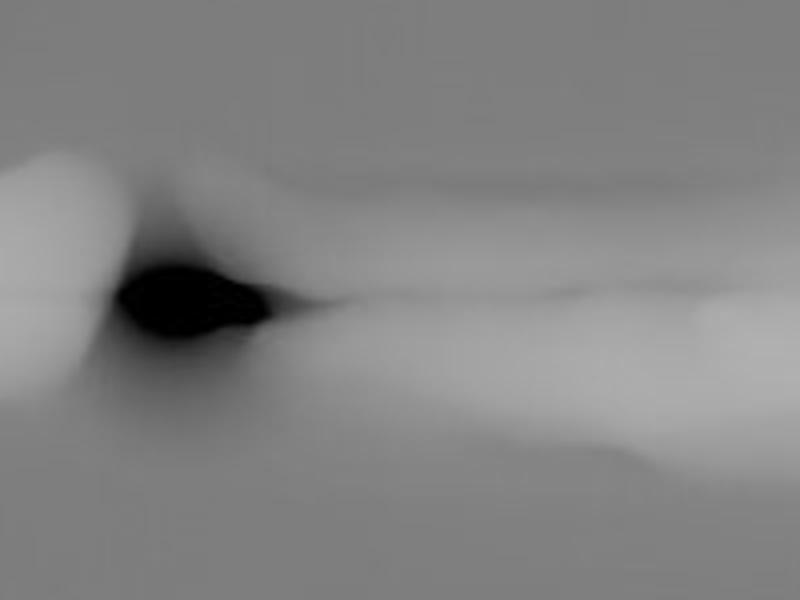defect: (116, 262, 275, 341)
